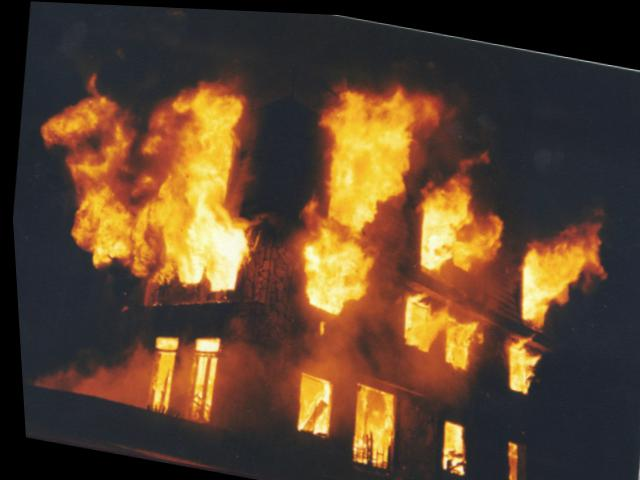fire: (4, 17, 639, 479)
